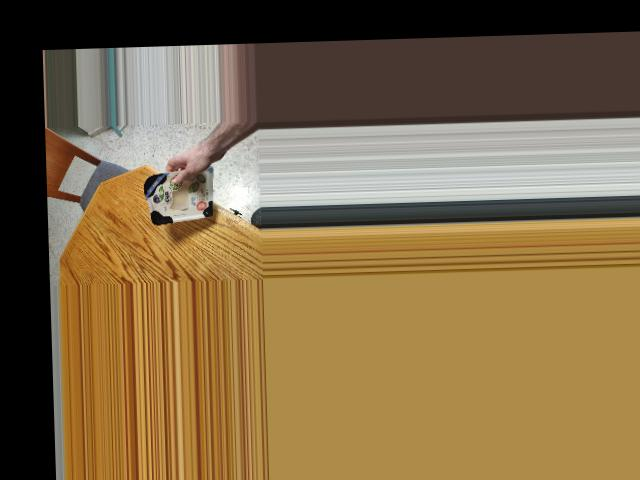cheese: (140, 166, 223, 219)
